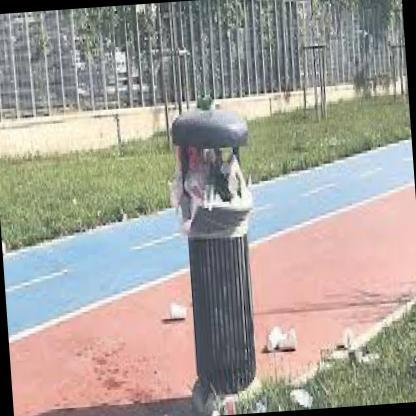Garbage: (185, 149, 249, 194), (262, 326, 300, 362), (167, 302, 188, 324)
